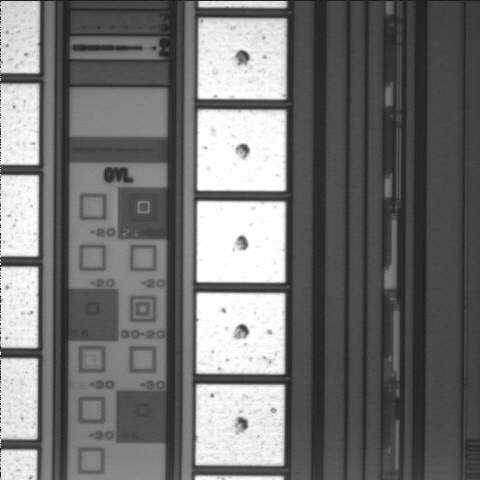pad: (197, 201, 286, 283), (196, 384, 285, 466), (197, 110, 286, 191), (196, 293, 285, 374), (198, 18, 286, 99)
